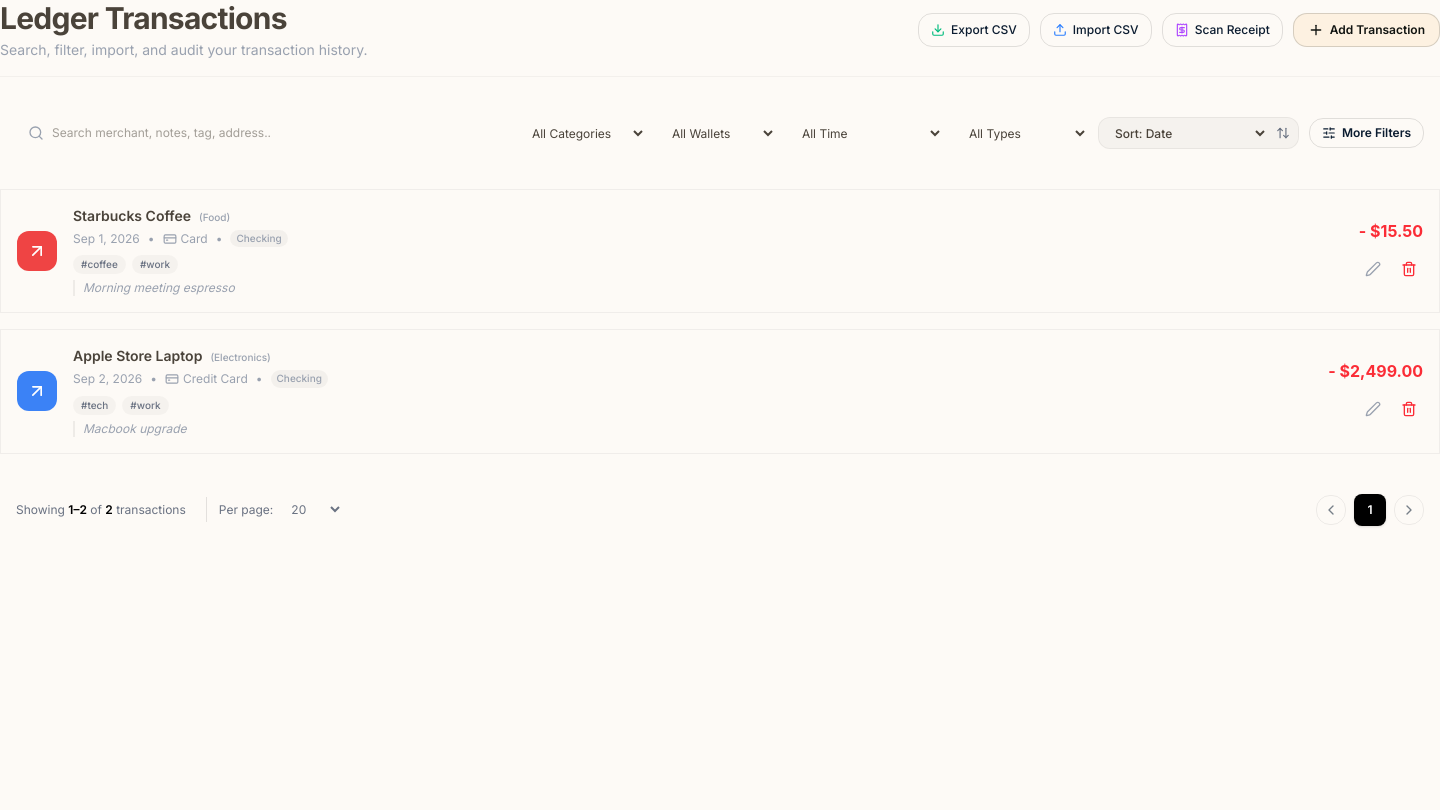
it: Transaction Search & Smart Filters Component Suite › Opens CSV Import modal when clicking Import CSV button
What coordinates should you click on to do the following:
click the button "Import CSV"
I would click on:
 (1096, 30)
Its box is [1040, 13, 1152, 47].
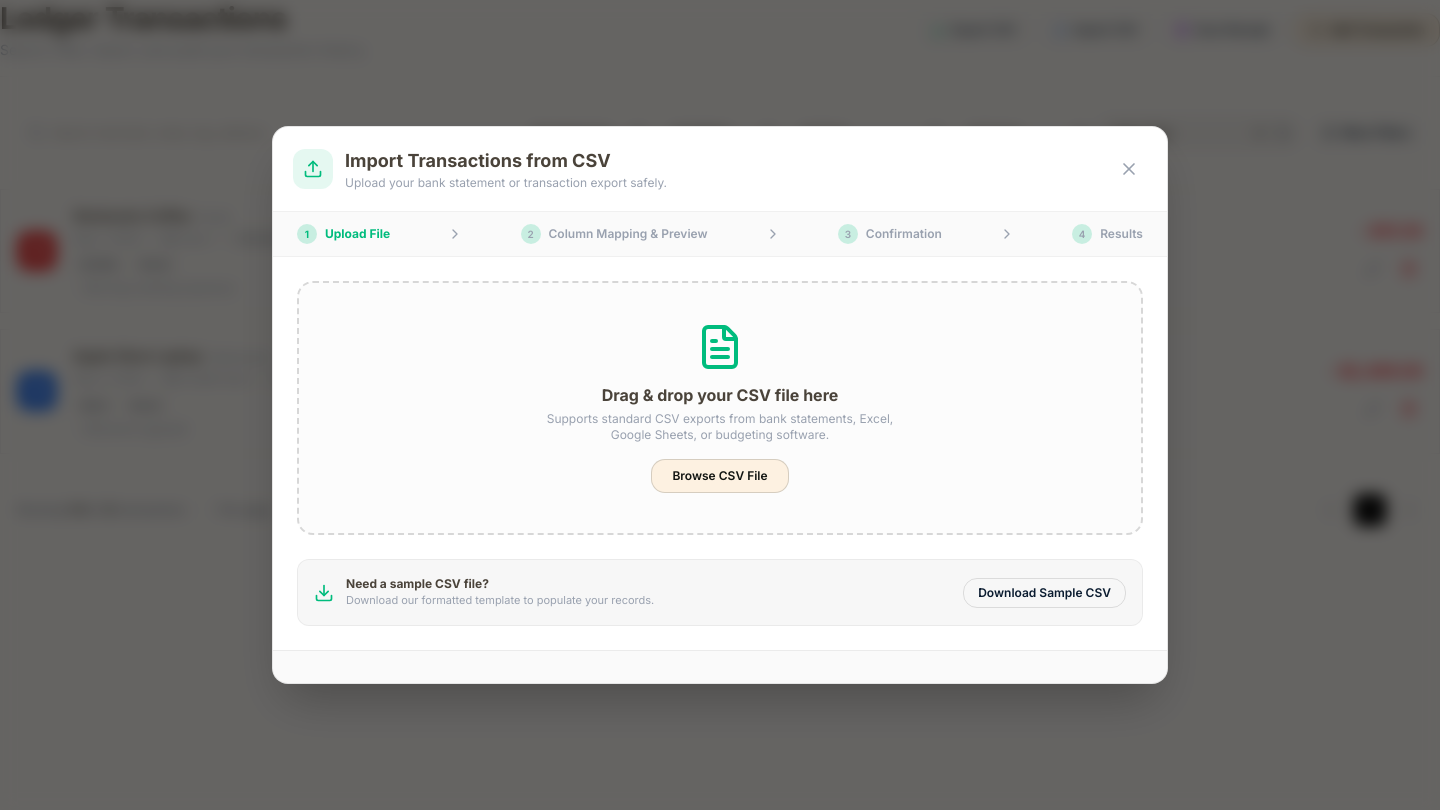
Expected: the heading "Import Transactions from CSV" is shown, [345, 150, 611, 171]
